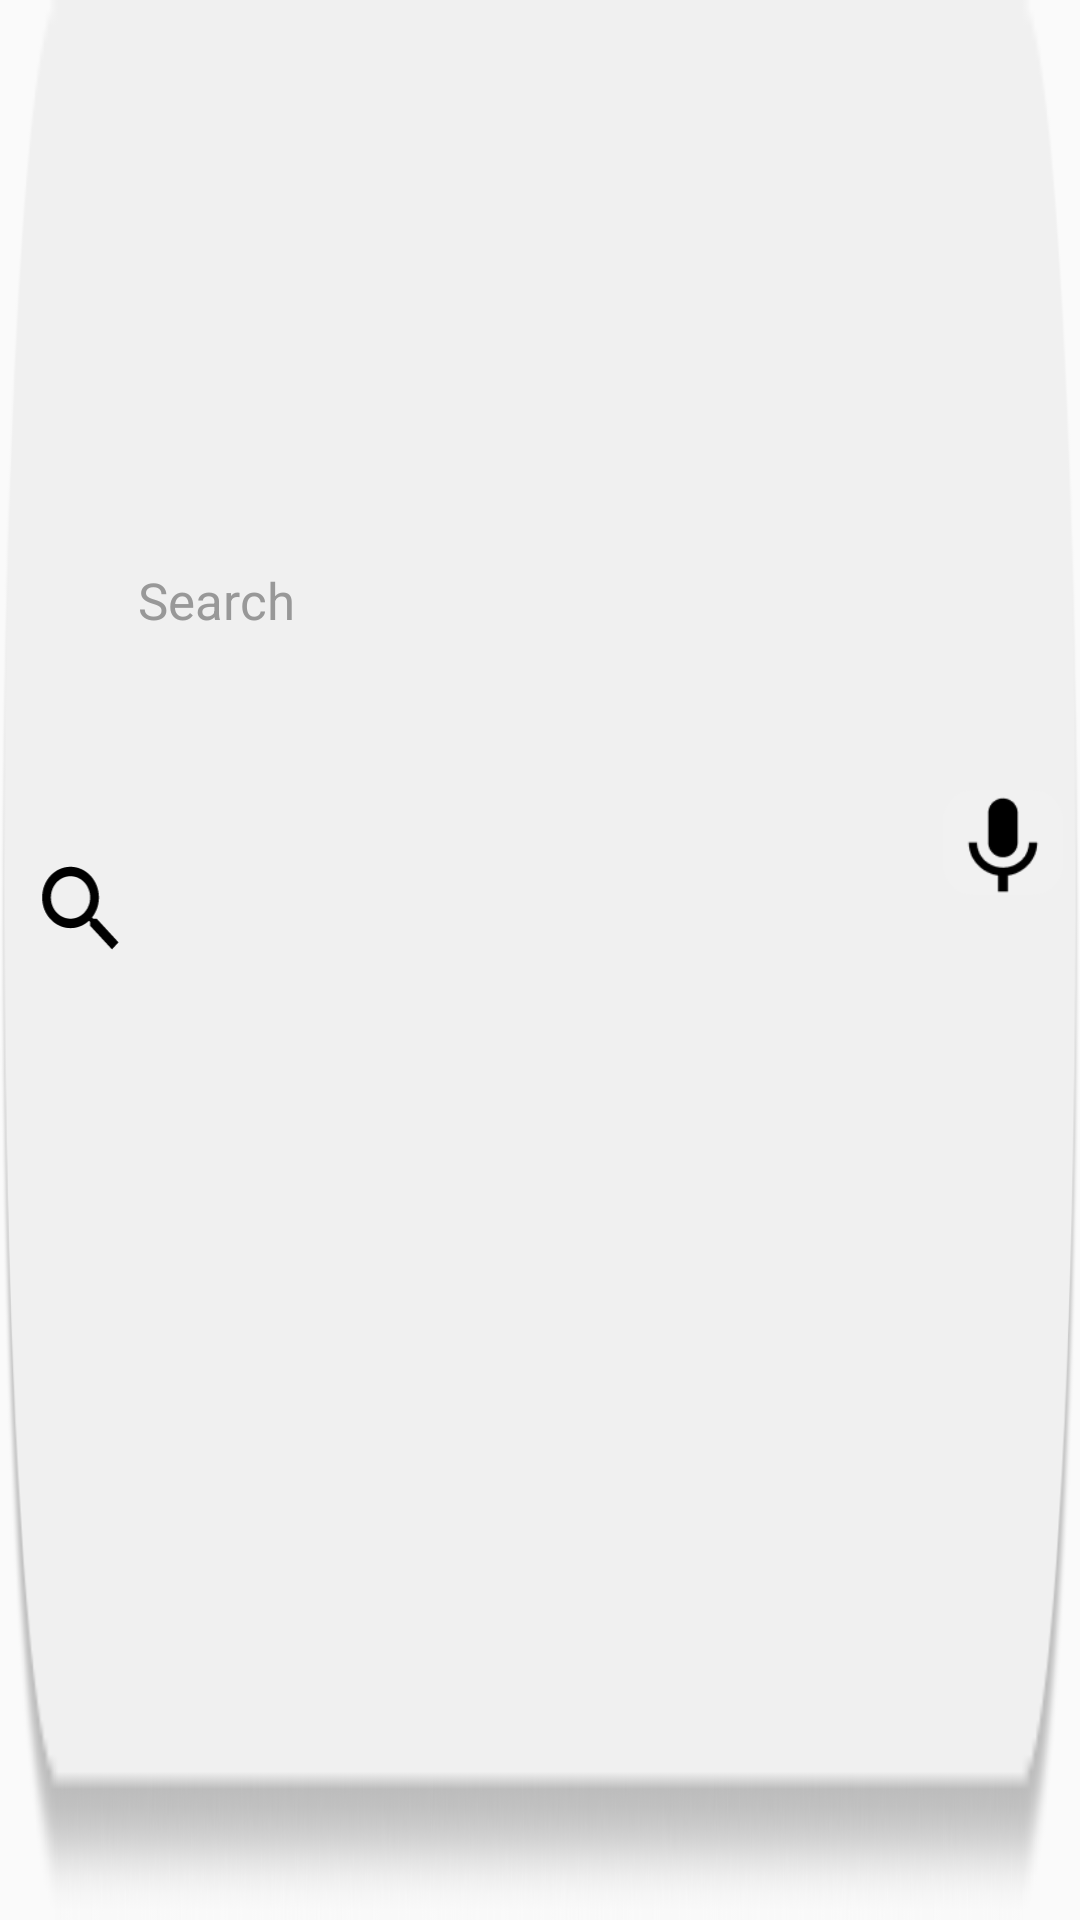

Icon click points for this 1080px x 1920px phone screenshot, format (x=x, y=y):
mic: (x=1003, y=845)
searchbar: (x=80, y=908)
